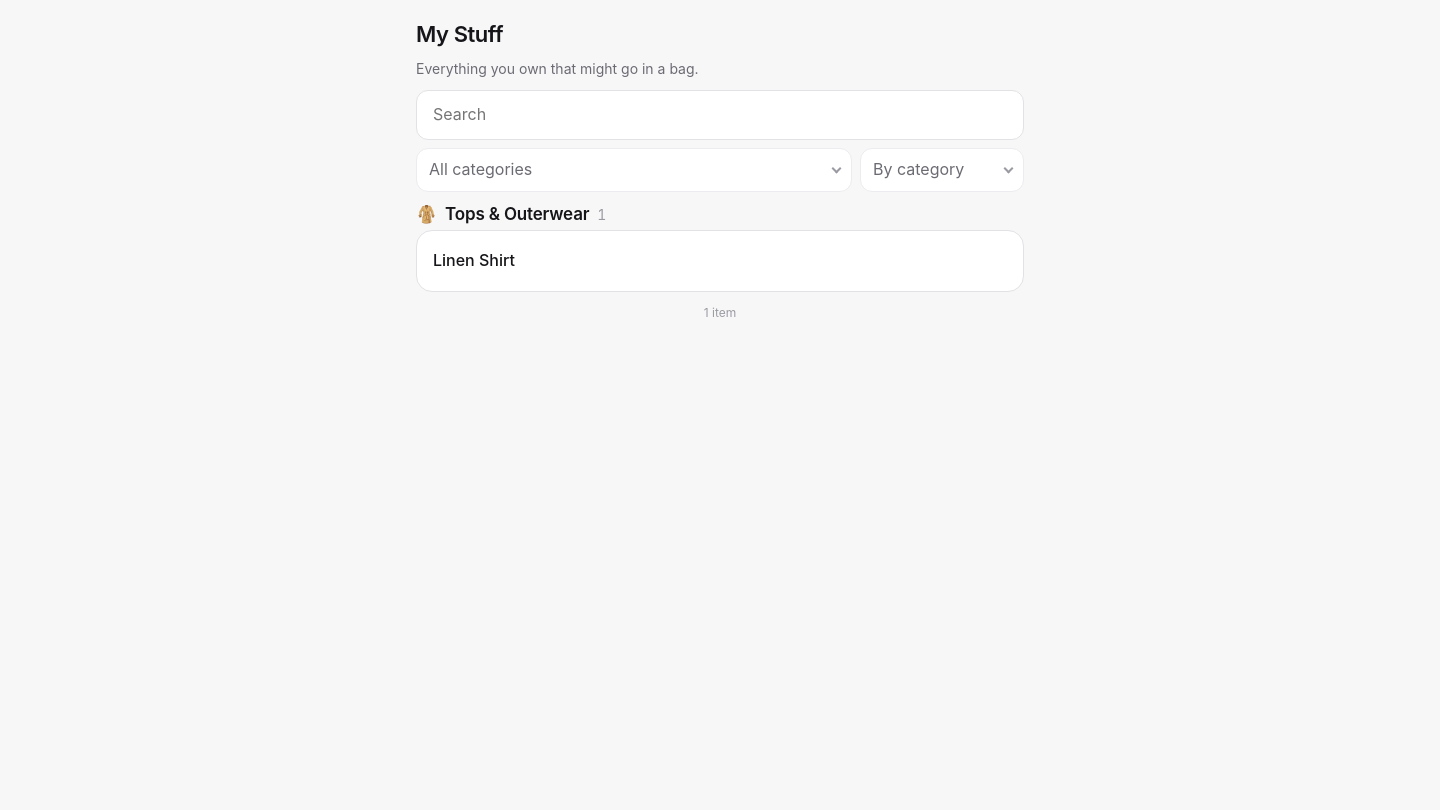
it: archiving from My Stuff › takes the offer away once it has been used
Click the button "Linen Shirt": [474, 260] box [417, 231, 1023, 291]
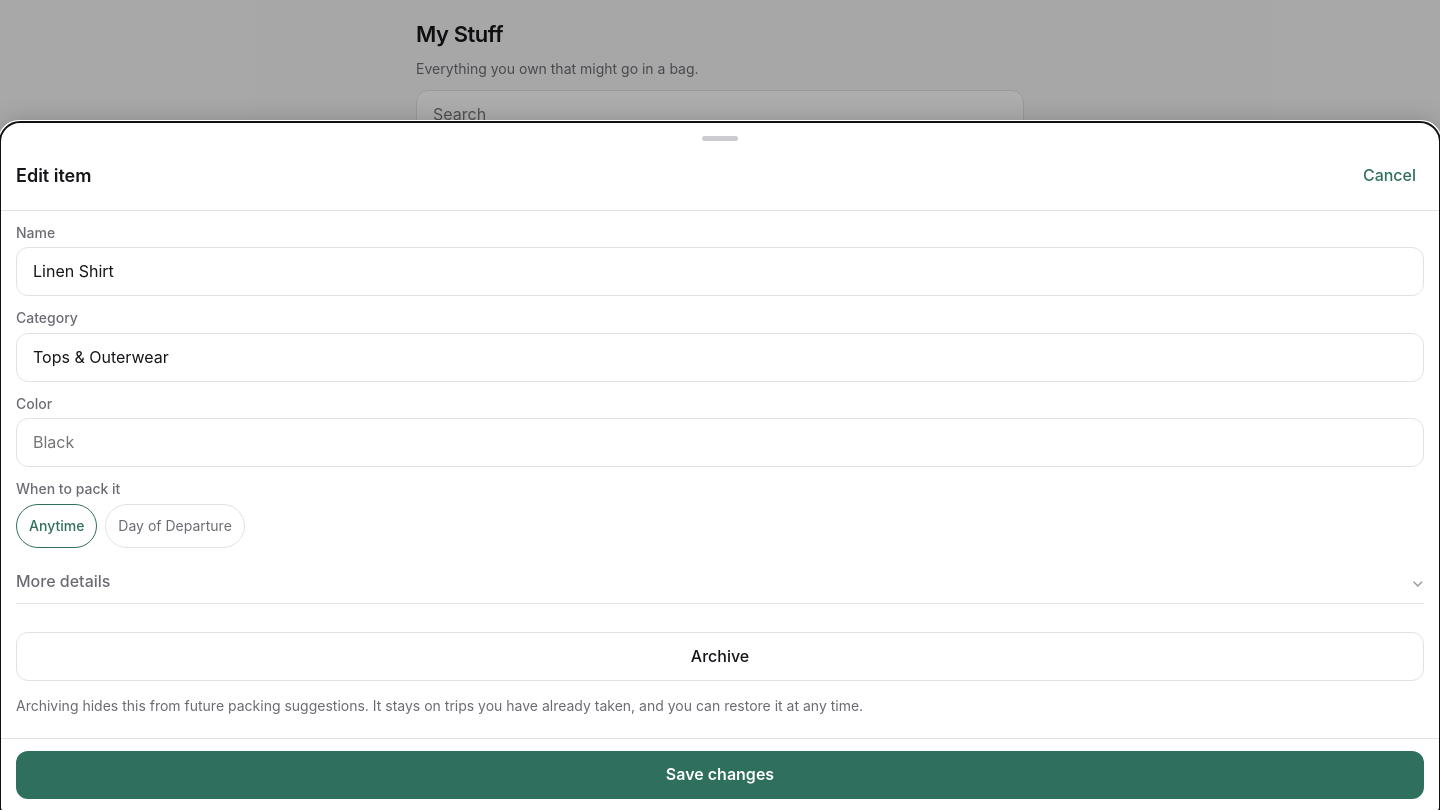
Click the button "Archive": [720, 656] box [16, 631, 1424, 680]
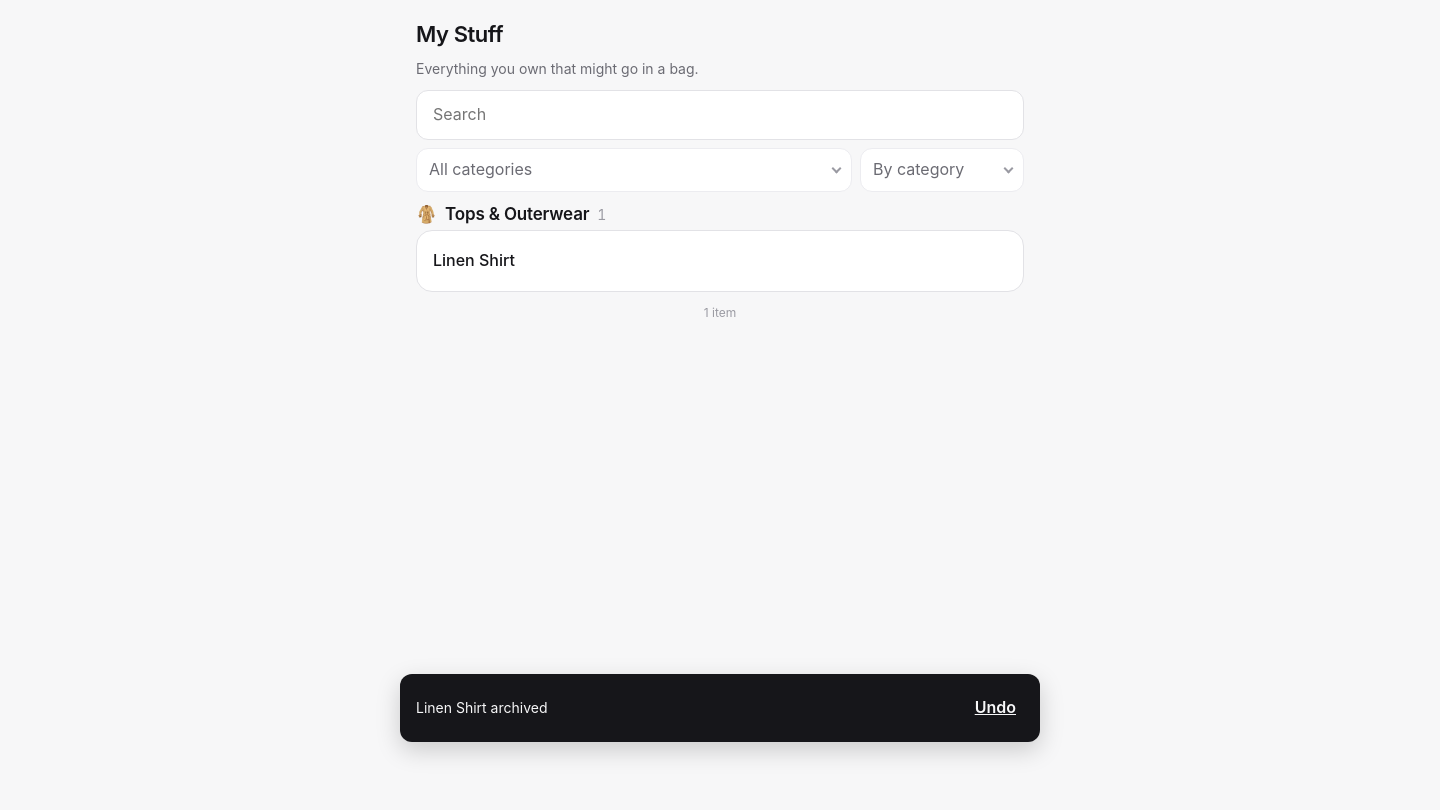
Click the button "Undo": [995, 708] box [967, 686, 1024, 730]
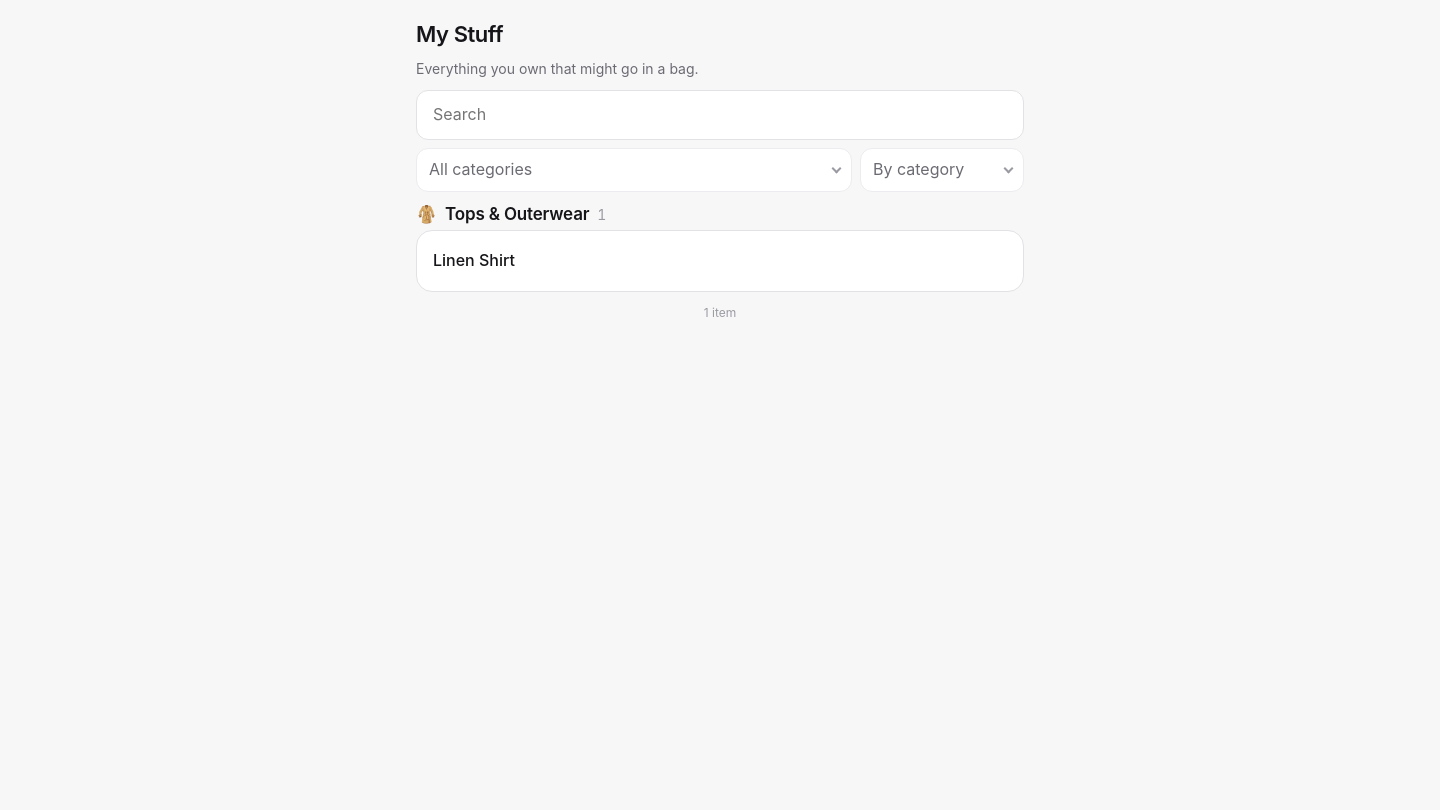
Result: the text "Linen Shirt archived" is gone
